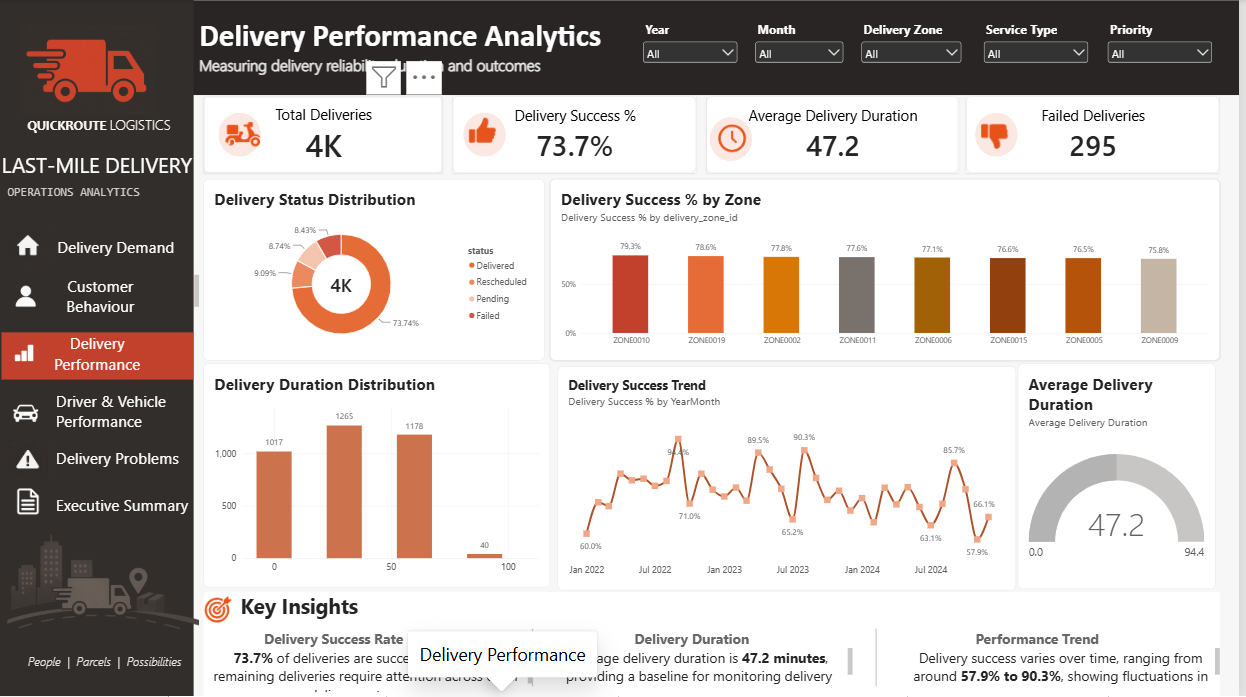

This screenshot's page, from the dashboard's own definition file:
{"tool":"powerbi","page":{"name":"Delivery Performance","canvas":[1920,1080],"ordinal":2},"visuals":[{"type":"shape","box":[0,0,1920,140],"z":0},{"type":"textbox","box":[315.8,18.4,1604.2,122.2],"z":1000},{"type":"shape","box":[0,0,299.6,1081],"z":2000},{"type":"textbox","box":[2.3,418.2,297.1,64],"z":3000},{"type":"textbox","box":[77.7,502.8,221.7,86.8],"z":4000},{"type":"textbox","box":[77.7,596.5,221.7,70.8],"z":5000},{"type":"textbox","box":[77.7,685.6,221.7,54.8],"z":6000},{"type":"textbox","box":[77.7,758.8,221.7,45.7],"z":7000},{"type":"image","box":[2.3,595.5,297.1,484.5],"z":8000},{"type":"image","box":[2.3,32,246.8,139.4],"z":9000},{"type":"image","box":[9.1,740.5,50.3,52.6],"z":10000},{"type":"image","box":[2.3,516.5,52.6,43.4],"z":11000},{"type":"image","box":[2.3,596.5,57.1,70.8],"z":12000},{"type":"image","box":[6.9,429.7,48,41.1],"z":13000},{"type":"image","box":[0,667.3,66.3,73.1],"z":14000},{"type":"slicer","fields":{"Values":["date_table.Year"]},"box":[982.7,25.1,155.4,91.4],"z":15000},{"type":"slicer","fields":{"Values":["date_table.MonthName"]},"box":[1156.4,25.1,146.3,91.4],"z":16000},{"type":"slicer","fields":{"Values":["orders (1).delivery_zone_id"]},"box":[1321,25.1,164.5,102.8],"z":17000},{"type":"slicer","fields":{"Values":["orders (1).service_type"]},"box":[1510.7,25.1,171.4,102.8],"z":18000},{"type":"slicer","fields":{"Values":["orders (1).priority"]},"box":[1702.6,25.1,171.4,102.8],"z":19000},{"type":"textbox","box":[34.3,1003.3,246.8,61.7],"z":20000},{"type":"textbox","box":[2.3,358.8,297.1,43.4],"z":21000},{"type":"image","box":[0,340.5,68.6,61.7],"z":22000},{"type":"shape","box":[272,418.2,27.4,52.6],"z":23000},{"type":"textbox","box":[2.3,171.4,283.4,54.8],"z":24000},{"type":"textbox","box":[2.3,226.3,402.2,89.1],"z":25000},{"type":"textbox","box":[2.3,278.8,244.5,36.6],"z":26000},{"type":"shape","box":[0,10,1920,140],"z":27000},{"type":"textbox","box":[308.5,27.4,1611.2,109.7],"z":28000},{"type":"shape","box":[0,0,299.6,1081],"z":29000},{"type":"textbox","box":[12.3,428.2,297.1,64],"z":30000},{"type":"textbox","box":[2.3,516.5,297.1,73.1],"z":31000},{"type":"textbox","box":[87.7,606.5,221.7,70.8],"z":32000},{"type":"textbox","box":[87.7,695.6,221.7,54.8],"z":33000},{"type":"textbox","box":[87.7,768.8,221.7,45.7],"z":34000},{"type":"image","box":[12.3,595.5,297.1,484.5],"z":35000},{"type":"image","box":[12.3,42,246.8,139.4],"z":36000},{"type":"image","box":[19.1,750.5,50.3,52.6],"z":37000},{"type":"image","box":[12.3,526.5,52.6,43.4],"z":38000},{"type":"image","box":[12.3,606.5,57.1,70.8],"z":39000},{"type":"image","box":[16.9,439.7,48,41.1],"z":40000},{"type":"image","box":[10,677.3,66.3,73.1],"z":41000},{"type":"slicer","fields":{"Values":["date_table.Year"]},"box":[992.7,35.1,155.4,91.4],"z":42000},{"type":"slicer","fields":{"Values":["date_table.MonthName"]},"box":[1166.4,35.1,146.3,91.4],"z":43000},{"type":"slicer","fields":{"Values":["orders (1).delivery_zone_id"]},"box":[1331,35.1,164.5,102.8],"z":44000},{"type":"slicer","fields":{"Values":["orders (1).service_type"]},"box":[1520.7,35.1,171.4,102.8],"z":45000},{"type":"slicer","fields":{"Values":["orders (1).priority"]},"box":[1712.6,35.1,171.4,102.8],"z":46000},{"type":"textbox","box":[44.3,1013.3,246.8,61.7],"z":47000},{"type":"textbox","box":[12.3,368.8,297.1,43.4],"z":48000},{"type":"image","box":[10,350.5,68.6,61.7],"z":49000},{"type":"textbox","box":[12.3,181.4,283.4,54.8],"z":50000},{"type":"textbox","box":[2.3,235.4,411.4,89.1],"z":51000},{"type":"textbox","box":[12.3,288.8,244.5,36.6],"z":52000},{"type":"cardVisual","fields":{"Data":["_Measures (2).Total Deliveries"]},"box":[315.4,150.8,370.2,118.8],"z":53000},{"type":"cardVisual","fields":{"Data":["_Measures (2).Delivery Success %"]},"box":[701.6,150.8,377.1,118.8],"z":54000},{"type":"cardVisual","fields":{"Data":["_Measures (2).Average Delivery Duration"]},"box":[1094.7,150.8,390.8,118.8],"z":55000},{"type":"cardVisual","fields":{"Data":["_Measures (2).Failed Deliveries"]},"box":[1496.9,150.8,392,118.8],"z":56000},{"type":"shape","box":[338.2,176,66.3,68.6],"z":57000},{"type":"shape","box":[717.6,176,66.3,68.6],"z":58000},{"type":"shape","box":[1099.3,182.8,66.3,68.6],"z":59000},{"type":"shape","box":[1510.7,176,66.3,68.6],"z":60000},{"type":"donutChart","title":"Delivery Status Distribution","fields":{"Category":["deliveries (1).status"],"Y":["_Measures (2).Total Deliveries"]},"box":[315.4,278.8,527.9,281.1],"z":61000},{"type":"clusteredColumnChart","title":"Delivery Duration Distribution","fields":{"Category":["deliveries (1).delivery_duration_min (bins)"],"Y":["CountNonNull(deliveries (1).delivery_id)"]},"box":[315.4,564.5,537.1,347.4],"z":62000},{"type":"clusteredColumnChart","title":"Delivery Success % by Zone","fields":{"Category":["orders (1).delivery_zone_id"],"Y":["_Measures (2).Delivery Success %"]},"box":[852.5,278.8,1037.6,281.1],"z":63000},{"type":"lineChart","title":"Delivery Success Trend","fields":{"Category":["date_table.YearMonth"],"Y":["_Measures (2).Delivery Success %"]},"box":[863.9,569.1,710.8,347.4],"z":64000},{"type":"gauge","title":"Average Delivery Duration","fields":{"Y":["_Measures (2).Average Delivery Duration"]},"box":[1576.9,564.5,306.2,349.7],"z":65000},{"type":"shape","box":[315.4,917.7,1574.6,162.3],"z":66000},{"type":"textbox","box":[372.5,918.7,205.7,57.1],"z":67000},{"type":"image","box":[299.4,918.7,75.4,61.7],"z":68000},{"type":"textbox","box":[409.1,975.9,342.8,45.7],"z":69000},{"type":"textbox","box":[315.4,1005.6,509.6,68.6],"z":70000},{"type":"shape","box":[758.8,975.9,132.6,89.1],"z":71000},{"type":"shape","box":[1291.3,975.9,132.6,89.1],"z":72000},{"type":"textbox","box":[852.5,975.9,438.8,52.6],"z":73000},{"type":"textbox","box":[852.5,1005.6,468.5,59.4],"z":74000},{"type":"textbox","box":[1403.2,975.9,299.4,64],"z":75000},{"type":"textbox","box":[1403.2,1005.6,486.8,59.4],"z":76000},{"type":"image","box":[708.5,178.3,75.4,61.7],"z":77000},{"type":"image","box":[1506.1,182.8,68.6,57.1],"z":78000},{"type":"image","box":[1101.6,182.8,64,61.7],"z":79000},{"type":"image","box":[340.5,178.3,70.8,57.1],"z":80000}]}

Visuals, with their boxes on the page's 1920x1080 design canvas (x1, y1, x2, y2). These are canvas units, not pixel positions in the 1246x697 screenshot, which may show the page scaled, cropped or inside an application window:
shape: (0, 0, 1920, 140)
textbox: (316, 18, 1920, 141)
shape: (0, 0, 300, 1081)
textbox: (2, 418, 299, 482)
textbox: (78, 503, 299, 590)
textbox: (78, 596, 299, 667)
textbox: (78, 686, 299, 740)
textbox: (78, 759, 299, 804)
image: (2, 596, 299, 1080)
image: (2, 32, 249, 171)
image: (9, 740, 59, 793)
image: (2, 516, 55, 560)
image: (2, 596, 59, 667)
image: (7, 430, 55, 471)
image: (0, 667, 66, 740)
slicer - date_table.Year: (983, 25, 1138, 116)
slicer - date_table.MonthName: (1156, 25, 1303, 116)
slicer - orders (1).delivery_zone_id: (1321, 25, 1486, 128)
slicer - orders (1).service_type: (1511, 25, 1682, 128)
slicer - orders (1).priority: (1703, 25, 1874, 128)
textbox: (34, 1003, 281, 1065)
textbox: (2, 359, 299, 402)
image: (0, 340, 69, 402)
shape: (272, 418, 299, 471)
textbox: (2, 171, 286, 226)
textbox: (2, 226, 404, 315)
textbox: (2, 279, 247, 315)
shape: (0, 10, 1920, 150)
textbox: (308, 27, 1920, 137)
shape: (0, 0, 300, 1081)
textbox: (12, 428, 309, 492)
textbox: (2, 516, 299, 590)
textbox: (88, 606, 309, 677)
textbox: (88, 696, 309, 750)
textbox: (88, 769, 309, 814)
image: (12, 596, 309, 1080)
image: (12, 42, 259, 181)
image: (19, 750, 69, 803)
image: (12, 526, 65, 570)
image: (12, 606, 69, 677)
image: (17, 440, 65, 481)
image: (10, 677, 76, 750)
slicer - date_table.Year: (993, 35, 1148, 126)
slicer - date_table.MonthName: (1166, 35, 1313, 126)
slicer - orders (1).delivery_zone_id: (1331, 35, 1496, 138)
slicer - orders (1).service_type: (1521, 35, 1692, 138)
slicer - orders (1).priority: (1713, 35, 1884, 138)
textbox: (44, 1013, 291, 1075)
textbox: (12, 369, 309, 412)
image: (10, 350, 79, 412)
textbox: (12, 181, 296, 236)
textbox: (2, 235, 414, 324)
textbox: (12, 289, 257, 325)
cardVisual - _Measures (2).Total Deliveries: (315, 151, 686, 270)
cardVisual - _Measures (2).Delivery Success %: (702, 151, 1079, 270)
cardVisual - _Measures (2).Average Delivery Duration: (1095, 151, 1486, 270)
cardVisual - _Measures (2).Failed Deliveries: (1497, 151, 1889, 270)
shape: (338, 176, 404, 245)
shape: (718, 176, 784, 245)
shape: (1099, 183, 1166, 251)
shape: (1511, 176, 1577, 245)
"Delivery Status Distribution" donutChart: (315, 279, 843, 560)
"Delivery Duration Distribution" clusteredColumnChart: (315, 564, 852, 912)
"Delivery Success % by Zone" clusteredColumnChart: (852, 279, 1890, 560)
"Delivery Success Trend" lineChart: (864, 569, 1575, 916)
"Average Delivery Duration" gauge: (1577, 564, 1883, 914)
shape: (315, 918, 1890, 1080)
textbox: (372, 919, 578, 976)
image: (299, 919, 375, 980)
textbox: (409, 976, 752, 1022)
textbox: (315, 1006, 825, 1074)
shape: (759, 976, 891, 1065)
shape: (1291, 976, 1424, 1065)
textbox: (852, 976, 1291, 1028)
textbox: (852, 1006, 1321, 1065)
textbox: (1403, 976, 1703, 1040)
textbox: (1403, 1006, 1890, 1065)
image: (708, 178, 784, 240)
image: (1506, 183, 1575, 240)
image: (1102, 183, 1166, 244)
image: (340, 178, 411, 235)
